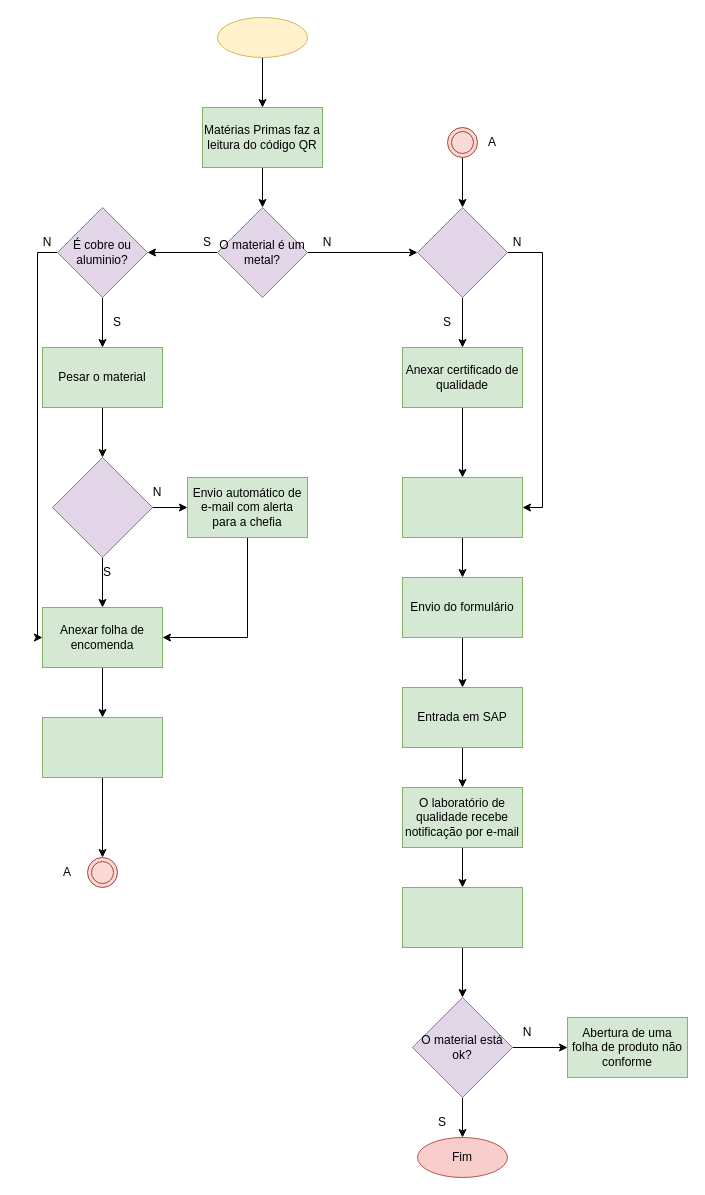
This 705x1195 diagram has some shape labels left out. Here are the shapes that lost their labels. From the top down, the box of each, then its label:
(216, 16, 308, 58): Inicio
(416, 206, 508, 298): O material tem certificado de qualidade?
(52, 456, 152, 558): O resultado é favorável?
(402, 476, 522, 538): Preencher os restantes dados do formulário
(42, 716, 162, 778): Envio automático de e-mail para compras
(402, 886, 522, 948): O laboratório de qualidade verifica se o produto está ou não conforme
